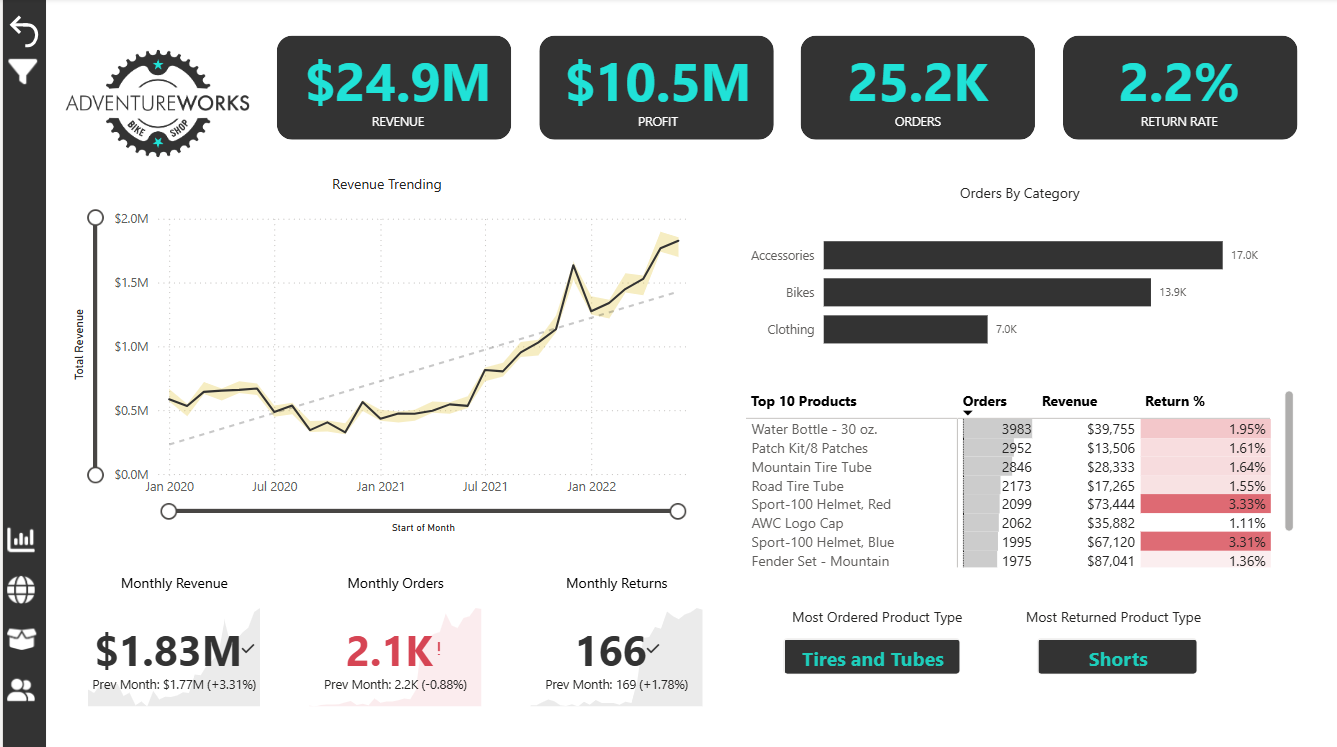

What the dashboard file says about the page in this screenshot:
{"tool":"powerbi","page":{"name":"Exec Dashboard","canvas":[1280,720],"ordinal":0},"visuals":[{"type":"card","fields":{"Values":["Measure Table.Total Revenue"]},"box":[271.3,10.8,216,150],"z":0,"group":"g2"},{"type":"image","title":"AW Logo","box":[41.2,33.8,216.2,135],"z":0},{"type":"group","id":"g1","title":"KPI Backgrounds","box":[262.5,35.8,978.8,100],"z":0,"group":"g3"},{"type":"shape","box":[262.5,35.8,225,100],"z":0,"group":"g1"},{"type":"actionButton","box":[0,502.2,40.7,34.8],"z":0,"group":"g4"},{"type":"shape","title":"Left Nav Background","box":[0,0,41.2,720],"z":1000},{"type":"group","id":"g2","title":"KPI Values","box":[271.3,10.8,964.8,150],"z":1000,"group":"g3"},{"type":"card","fields":{"Values":["Measure Table.Total Profit"]},"box":[520.9,10.8,216,150],"z":1000,"group":"g2"},{"type":"shape","box":[513.7,35.8,225,100],"z":1000,"group":"g1"},{"type":"actionButton","box":[0,549.7,40.7,34.8],"z":1000,"group":"g4"},{"type":"group","id":"g3","title":"KPIs","box":[262.5,10.8,979.2,149.8],"z":2000},{"type":"card","fields":{"Values":["Measure Table.Total Orders"]},"box":[770.5,10.8,216,150],"z":2000,"group":"g2"},{"type":"shape","box":[765,35.8,225,100],"z":2000,"group":"g1"},{"type":"actionButton","box":[0,597.3,40.7,36],"z":2000,"group":"g4"},{"type":"card","fields":{"Values":["Measure Table.Return Rate"]},"box":[1020.1,10.8,216,150],"z":3000,"group":"g2"},{"type":"shape","box":[1016.3,35.8,225,100],"z":3000,"group":"g1"},{"type":"lineChart","title":" Revenue Trending","fields":{"Category":["Calendar Lookup.Date Hierarchy.Start of Month"],"Y":["Measure Table.Total Revenue"]},"box":[59.4,168.6,616.2,349.1],"z":3000},{"type":"actionButton","box":[0,646,40.7,34.8],"z":3000,"group":"g4"},{"type":"kpi","title":"Monthly Revenue","fields":{"Goal":["Measure Table.Previous Month Revenue"],"Indicator":["Measure Table.Total Revenue"],"TrendLine":["Calendar Lookup.Date Hierarchy.Start of Month"]},"box":[76.7,551.3,175,133],"z":4000},{"type":"kpi","title":"Monthly Returns","fields":{"Goal":["Measure Table.Previous Month Returns"],"Indicator":["Measure Table.Total Returns"],"TrendLine":["Calendar Lookup.Date Hierarchy.Start of Month"]},"box":[501,551.3,175,133],"z":5000},{"type":"kpi","title":"Monthly Orders","fields":{"Goal":["Measure Table.Previous Month Orders"],"Indicator":["Measure Table.Total Orders"],"TrendLine":["Calendar Lookup.Date Hierarchy.Start of Month"]},"box":[288.8,551.3,175,133],"z":6000},{"type":"clusteredBarChart","title":"Orders By Category","fields":{"Category":["Product Categories Lookup.CategoryName"],"Y":["Measure Table.Total Orders"]},"box":[707.7,176.9,535.5,174.5],"z":7000},{"type":"pivotTable","fields":{"Rows":["Product Lookup.ProductName"],"Values":["Measure Table.Total Orders","Measure Table.Total Revenue","Measure Table.Return Rate"]},"box":[707.1,371.5,535.7,179.8],"z":8000},{"type":"cardVisual","fields":{"Data":["Min(Product Subcategories Lookup.SubcategoryName)"]},"box":[731.1,597.2,204.5,69.8],"z":9000},{"type":"textbox","box":[751.6,579.1,195.4,35],"z":10000},{"type":"cardVisual","fields":{"Data":["Min(Product Subcategories Lookup.SubcategoryName)"]},"box":[974.8,597.2,188.2,70],"z":11000},{"type":"textbox","box":[976,579.1,189.4,35],"z":12000},{"type":"actionButton","box":[0,10.8,40.7,41.9],"z":13000},{"type":"group","id":"g4","title":"Navigation Buttons","box":[0,502.2,40.7,178.6],"z":14000},{"type":"actionButton","box":[1.2,52.2,40.4,35.6],"z":15000}]}

Visuals, with their boxes on the page's 1280x720 design canvas (x1, y1, x2, y2). These are canvas units, not pixel positions in the 1337x747 screenshot, which may show the page scaled, cropped or inside an application window:
card - Measure Table.Total Revenue: crop(271, 11, 487, 161)
"AW Logo" image: crop(41, 34, 257, 169)
"KPI Backgrounds" group: crop(262, 36, 1241, 136)
shape: crop(262, 36, 488, 136)
actionButton: crop(0, 502, 41, 537)
"Left Nav Background" shape: crop(0, 0, 41, 720)
"KPI Values" group: crop(271, 11, 1236, 161)
card - Measure Table.Total Profit: crop(521, 11, 737, 161)
shape: crop(514, 36, 739, 136)
actionButton: crop(0, 550, 41, 584)
"KPIs" group: crop(262, 11, 1242, 161)
card - Measure Table.Total Orders: crop(770, 11, 986, 161)
shape: crop(765, 36, 990, 136)
actionButton: crop(0, 597, 41, 633)
card - Measure Table.Return Rate: crop(1020, 11, 1236, 161)
shape: crop(1016, 36, 1241, 136)
" Revenue Trending" lineChart: crop(59, 169, 676, 518)
actionButton: crop(0, 646, 41, 681)
"Monthly Revenue" kpi: crop(77, 551, 252, 684)
"Monthly Returns" kpi: crop(501, 551, 676, 684)
"Monthly Orders" kpi: crop(289, 551, 464, 684)
"Orders By Category" clusteredBarChart: crop(708, 177, 1243, 351)
pivotTable - Product Lookup.ProductName x Measure Table.Total Orders: crop(707, 372, 1243, 551)
cardVisual - Min(Product Subcategories Lookup.SubcategoryName): crop(731, 597, 936, 667)
textbox: crop(752, 579, 947, 614)
cardVisual - Min(Product Subcategories Lookup.SubcategoryName): crop(975, 597, 1163, 667)
textbox: crop(976, 579, 1165, 614)
actionButton: crop(0, 11, 41, 53)
"Navigation Buttons" group: crop(0, 502, 41, 681)
actionButton: crop(1, 52, 42, 88)
